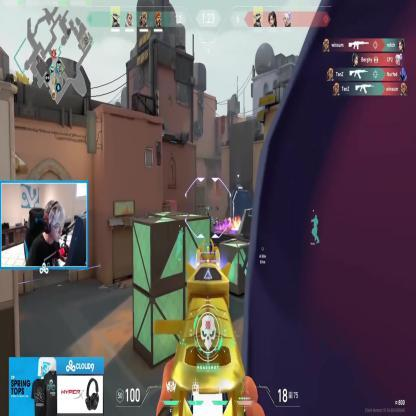enemy: (206, 203, 210, 219)
enemy_head: (207, 203, 209, 208)
